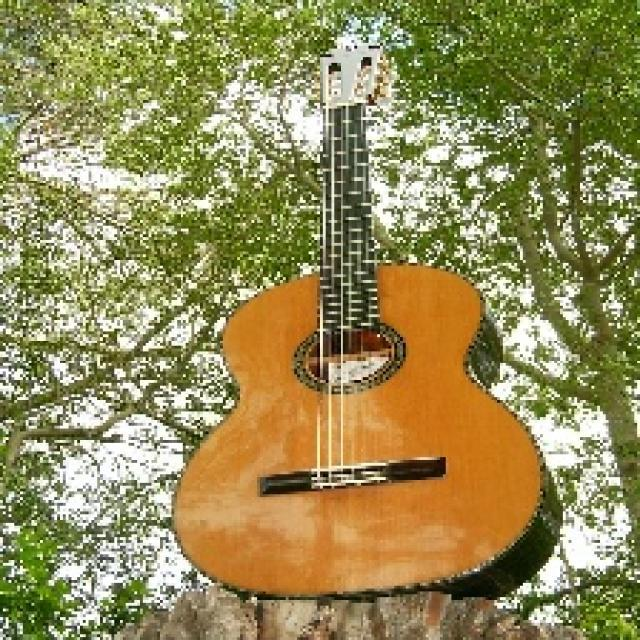acousticguitar: (174, 46, 560, 597)
